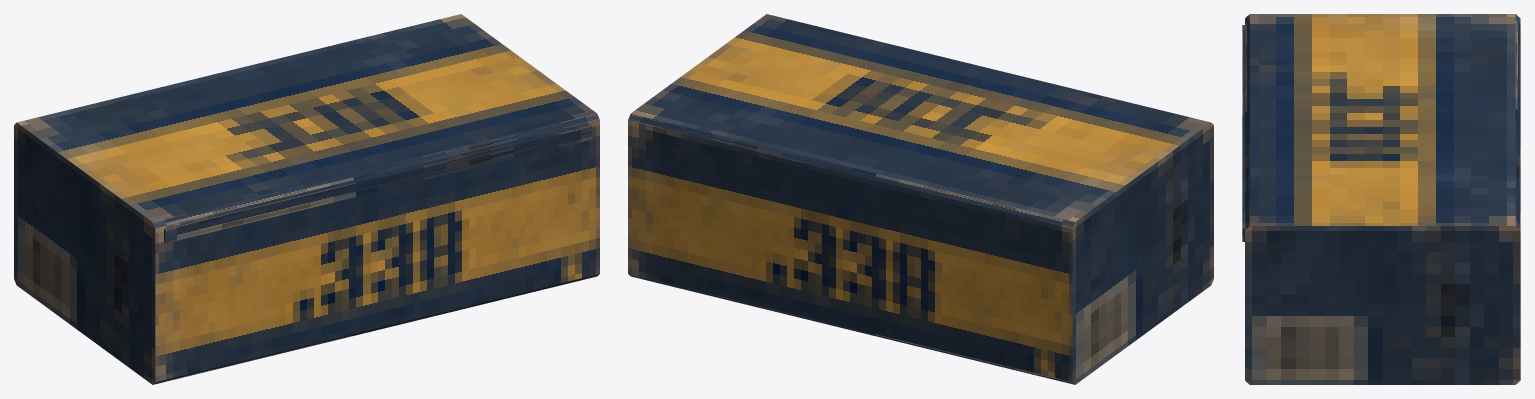
Rendered from awp.glb.
The picture shows the model from 3 angles, left to right: view 1: azimuth 30°, elevation 25°; view 2: azimuth 150°, elevation 25°; view 3: azimuth 270°, elevation 25°; orthographic projection. The views are drawn at different scales.
Visible parts, largest first — view 1: Carton; view 2: Carton; view 3: Carton.
Boxes of the visible parts, <box> form: Carton: <box>14,14,599,384</box>; Carton: <box>628,14,1213,384</box>; Carton: <box>1242,14,1520,384</box>.
Bounding box in the file's own units: 0.2 × 0.07 × 0.111.
Materials: 1 (1 with a texture image).
